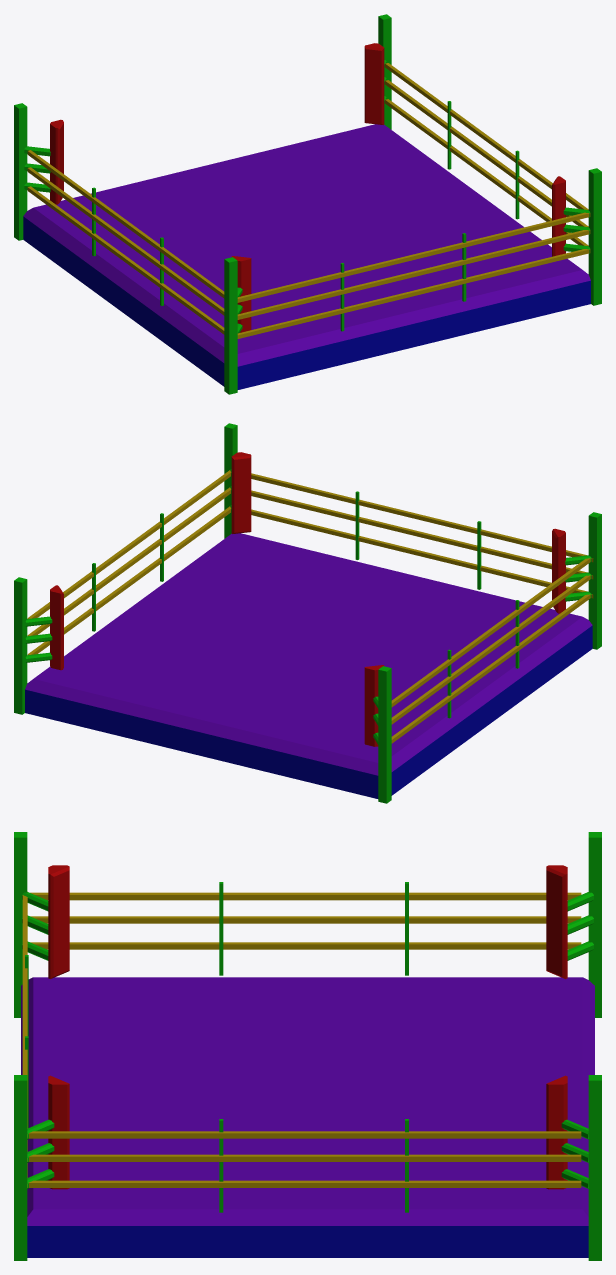
Rendered from boxing ring.fbx.
3 renders of one model, top to bottom at view 1: azimuth 30°, elevation 25°; view 2: azimuth 150°, elevation 25°; view 3: azimuth 270°, elevation 25°, orthographic. The views are drawn at different scales.
Visible parts, largest first — view 1: Mesh; view 2: Mesh; view 3: Mesh.
Part boxes in pixels (x1,y1,x2,y2): Mesh: [14, 14, 601, 394]; Mesh: [14, 423, 601, 803]; Mesh: [14, 832, 601, 1260].
Bounding box in the file's own units: 614 × 208 × 614.
